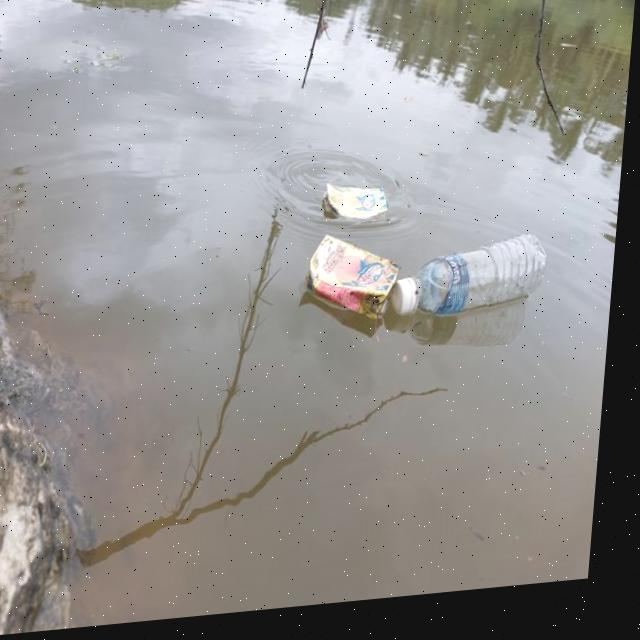paper: (303, 249, 395, 342), (313, 177, 405, 237)
waterbottle: (394, 238, 550, 354)
